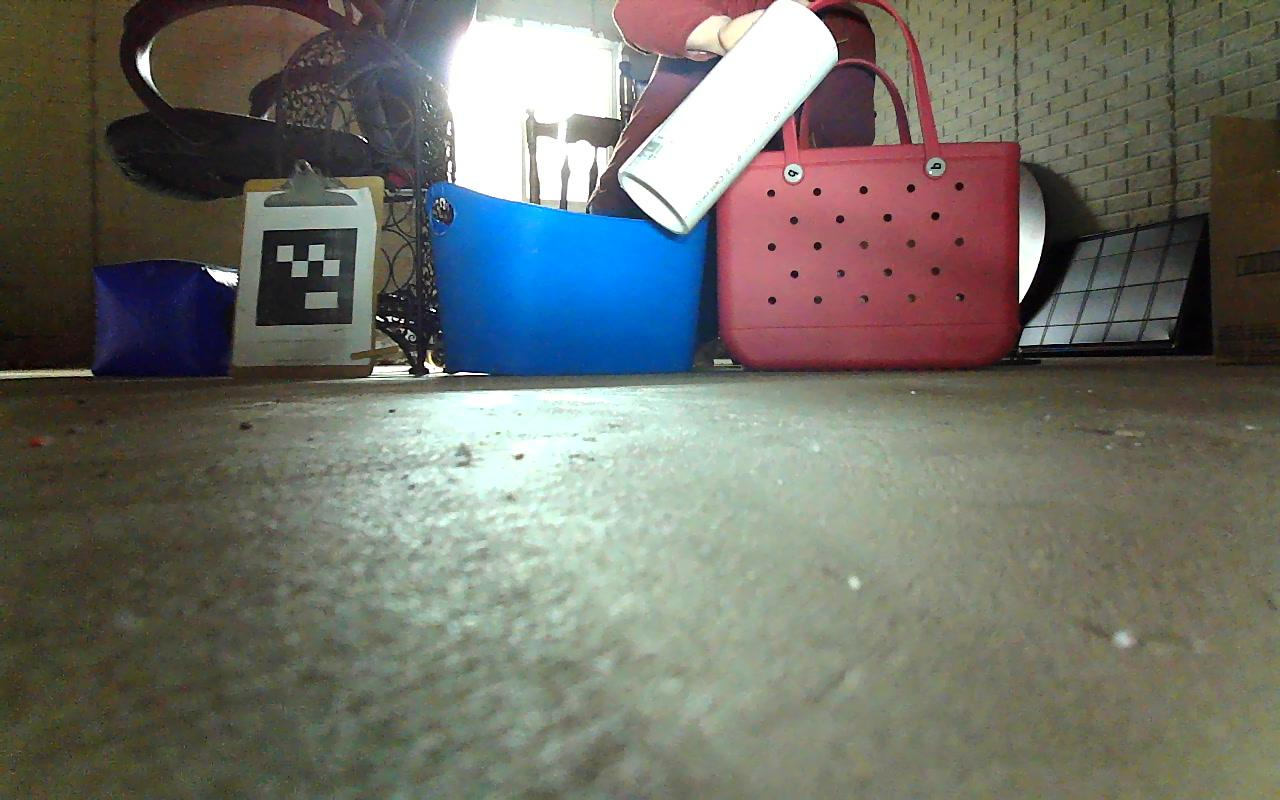coral: (617, 0, 847, 240)
